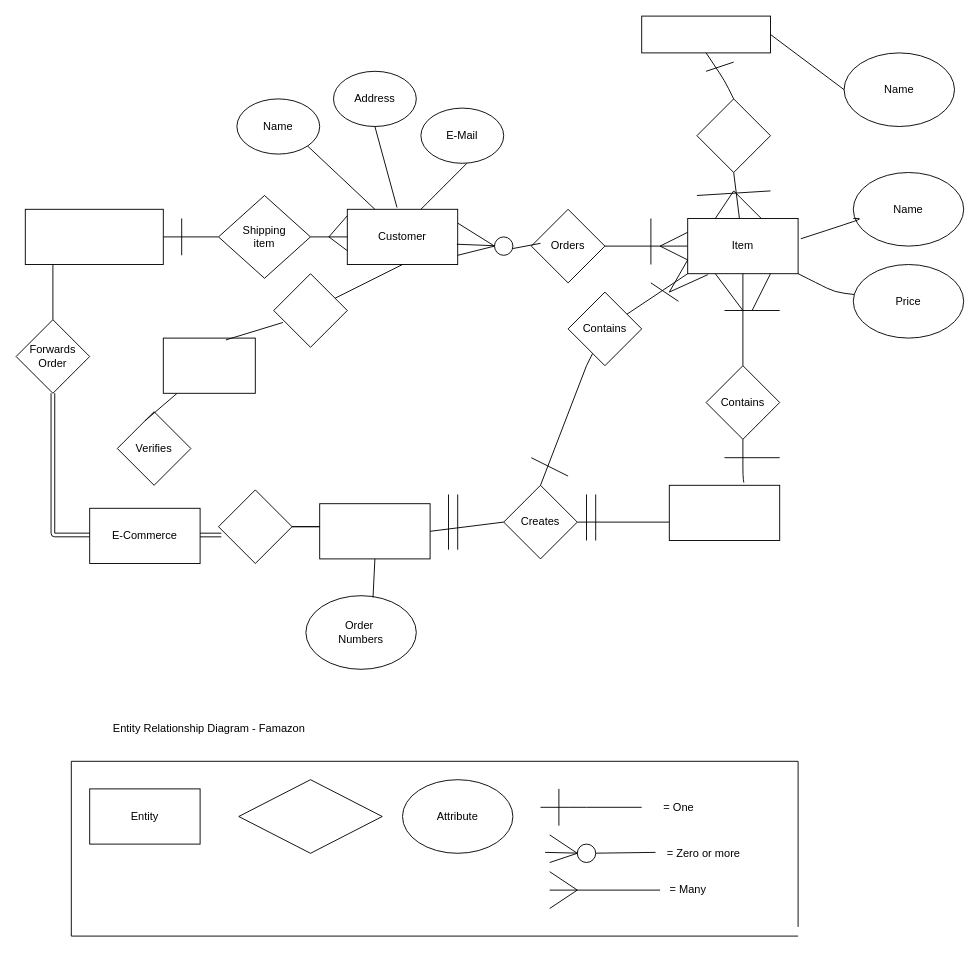
The diagram is 980 pixels wide and 953 high, and some of its shapes have lost their labels. The shapes that lost their labels are listed below. From the top down, each one's box as (x1, y1, x2, y2) in pixels, then its label:
(641, 15, 770, 53): Company
(696, 98, 770, 172): Produces
(24, 208, 163, 264): Shipping
(273, 273, 347, 347): Has
(162, 337, 255, 393): Credit Card
(218, 489, 292, 564): Process
(319, 503, 430, 559): Order
(668, 484, 780, 540): Shopping Cart
(238, 779, 382, 853): Action
